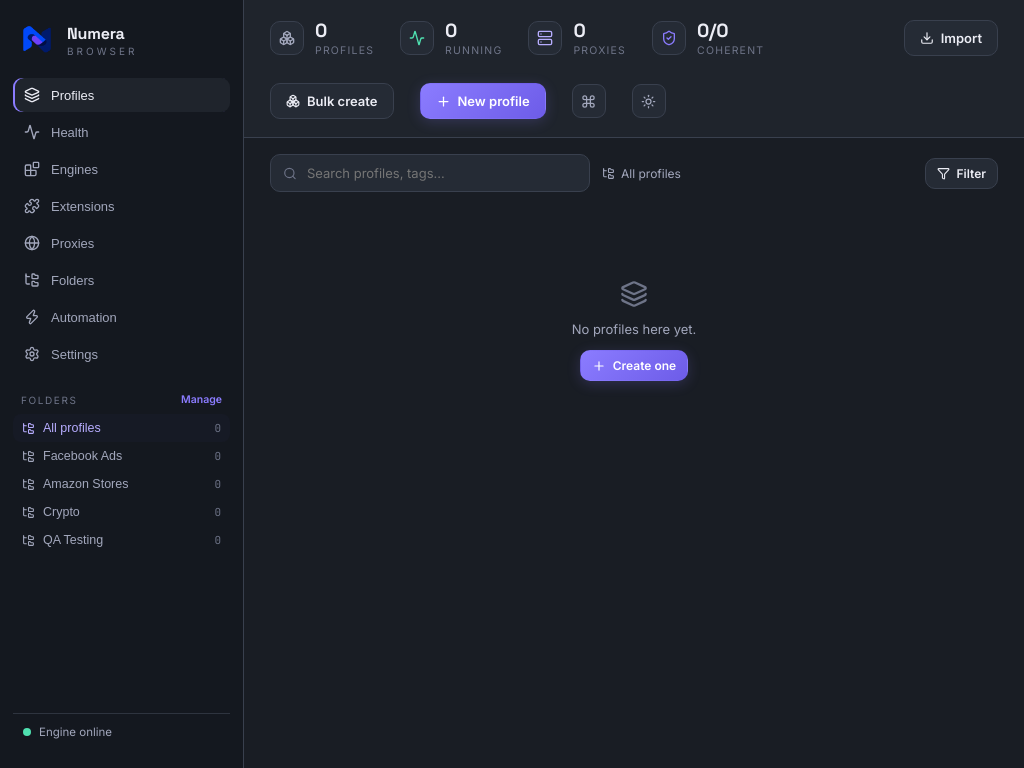
it: the bulk dialog offers each country once
expect the text "Engine online" is shown: met, box [39, 725, 112, 739]
Click the button "Bulk create": (332, 101) [270, 83, 394, 119]
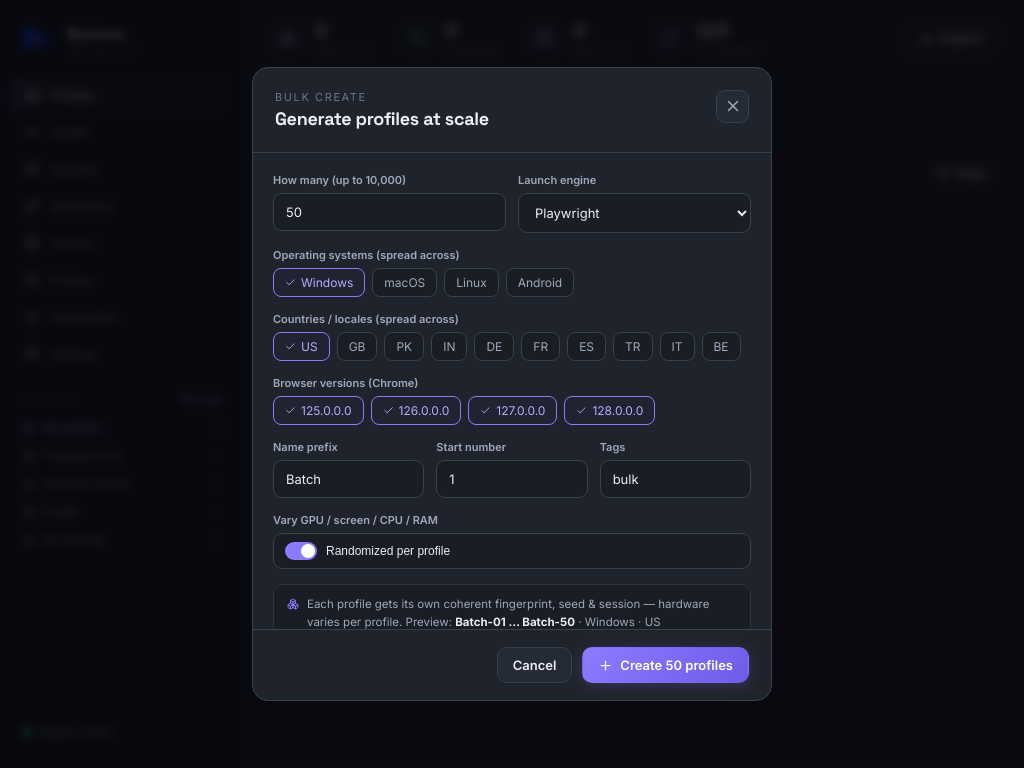
expect the button "GB" is shown: met, box [337, 332, 377, 361]
